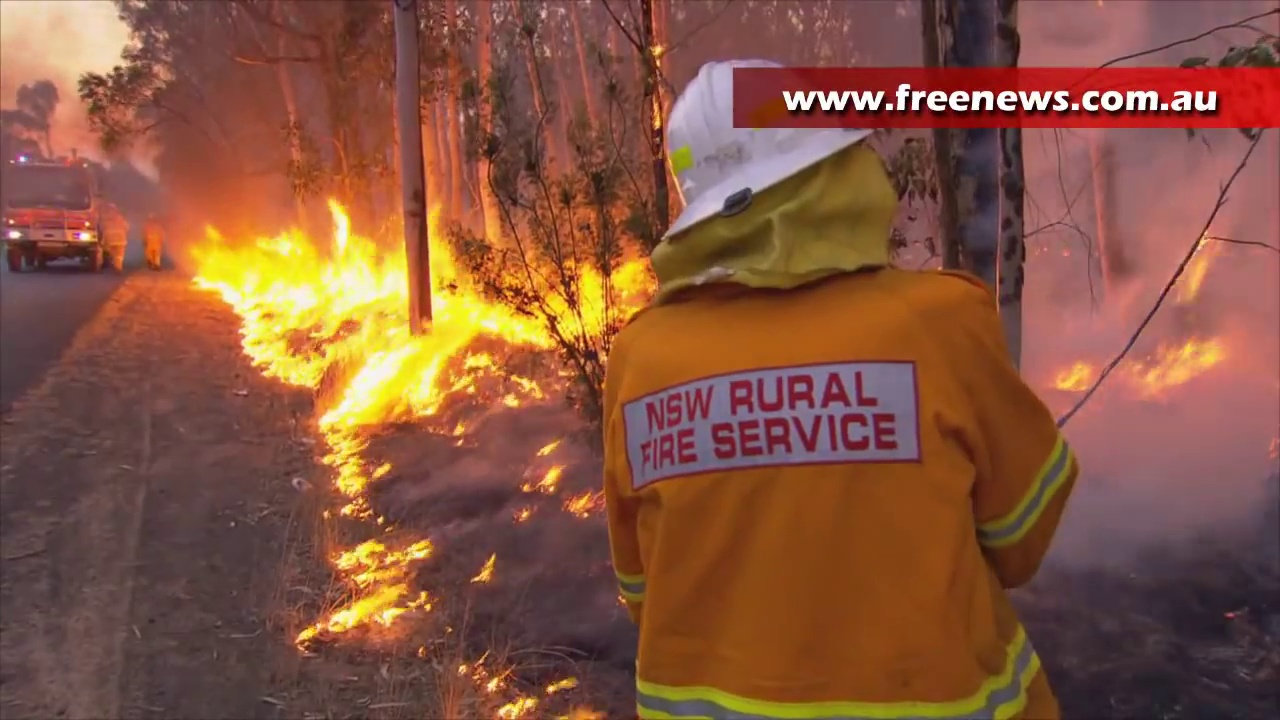fire: (193, 214, 647, 419), (297, 527, 431, 643), (318, 420, 381, 515), (1147, 344, 1219, 395), (1056, 363, 1085, 392)
